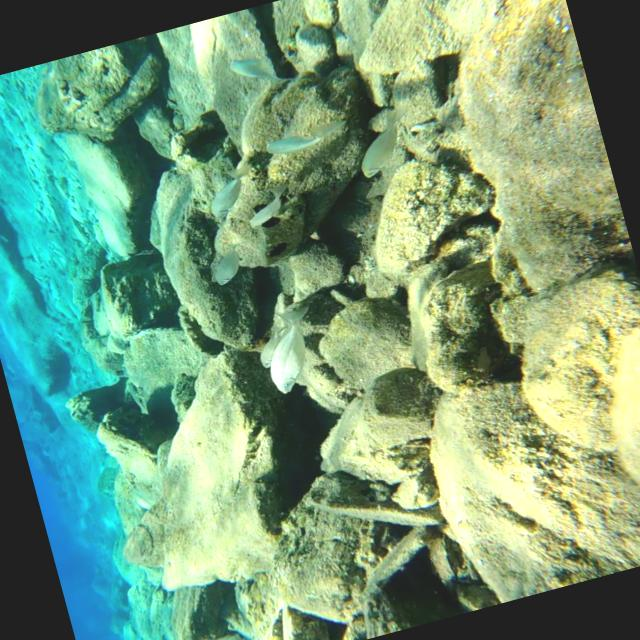Sokar Baligi: (248, 296, 336, 402), (338, 100, 425, 184)
